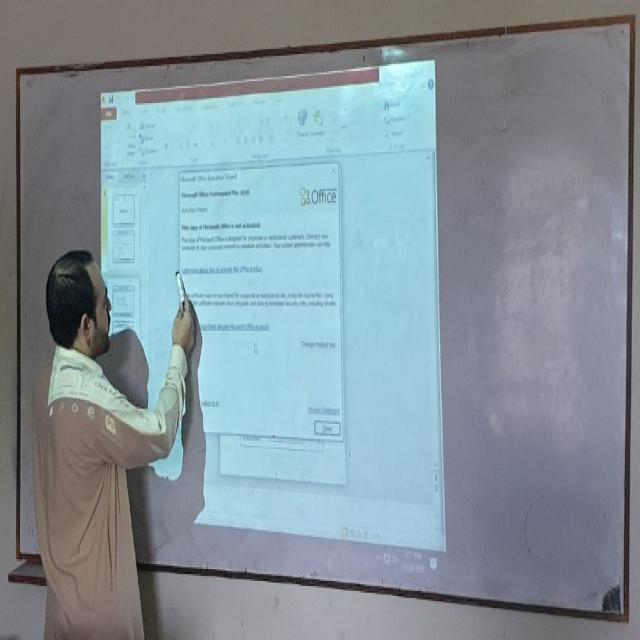Instructor: (25, 249, 135, 640)
Slide: (98, 59, 448, 582)
White-board: (15, 18, 634, 625)
